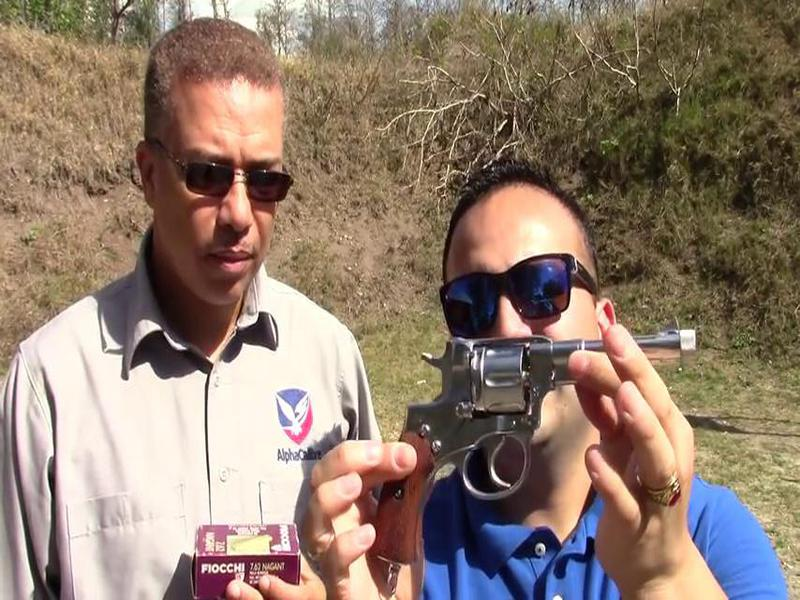Revolver: (355, 282, 726, 586)
